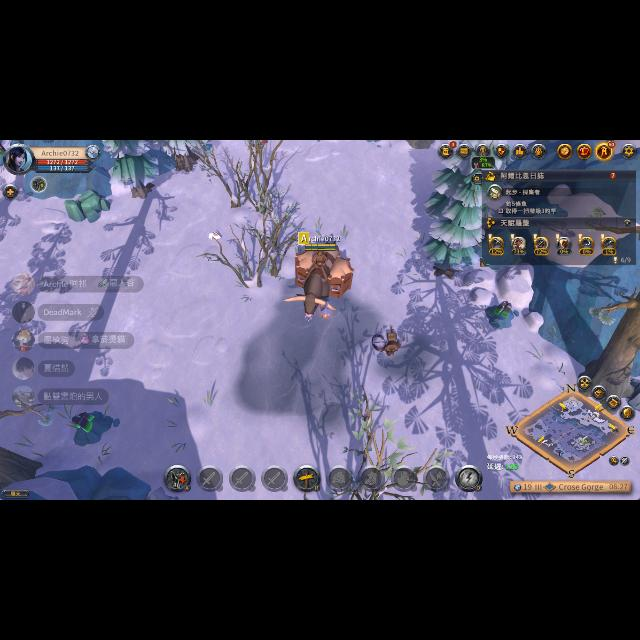mine_ii: (486, 302, 518, 324)
mine_iii: (67, 410, 109, 440)
